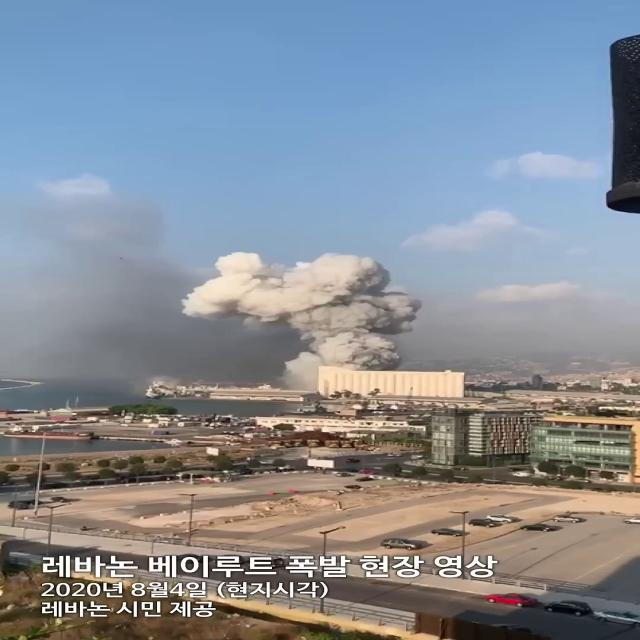explosion: (167, 198, 547, 436)
